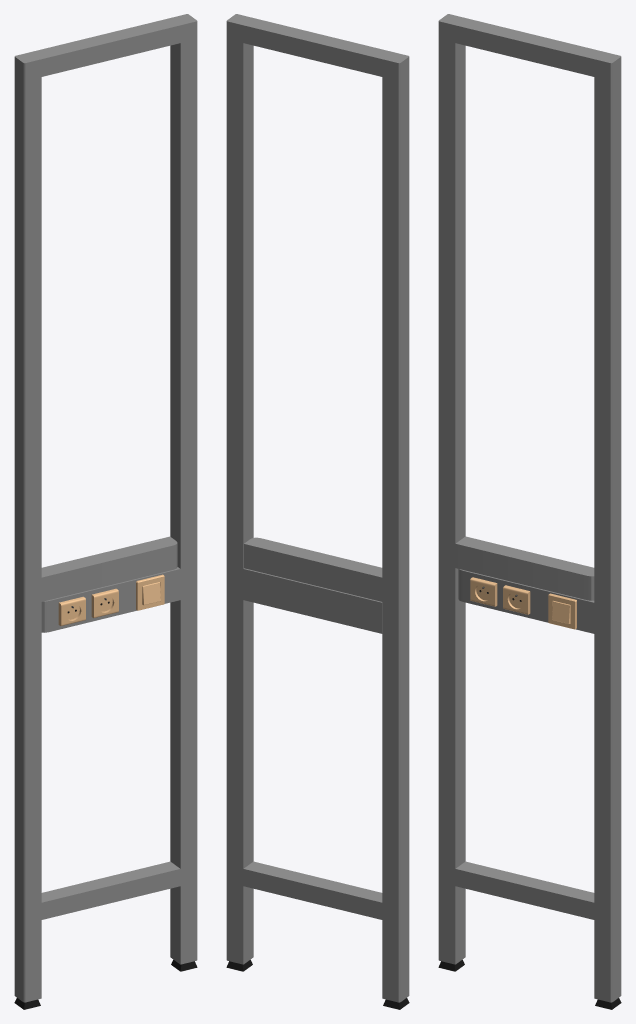
Rendered from SM_Shelfs_Border.FBX.
The picture shows the model from 3 angles, left to right: view 1: azimuth 30°, elevation 25°; view 2: azimuth 150°, elevation 25°; view 3: azimuth 330°, elevation 25°; orthographic projection.
Visible parts, largest first — view 1: SM_Shelfs_Border; view 2: SM_Shelfs_Border; view 3: SM_Shelfs_Border.
Boxes of the visible parts, bbox=[...] form: SM_Shelfs_Border: bbox=[14, 14, 197, 1009]; SM_Shelfs_Border: bbox=[226, 14, 409, 1009]; SM_Shelfs_Border: bbox=[438, 14, 621, 1009].
Bounding box in the file's own units: 0.4994 × 2.6 × 0.0651.
